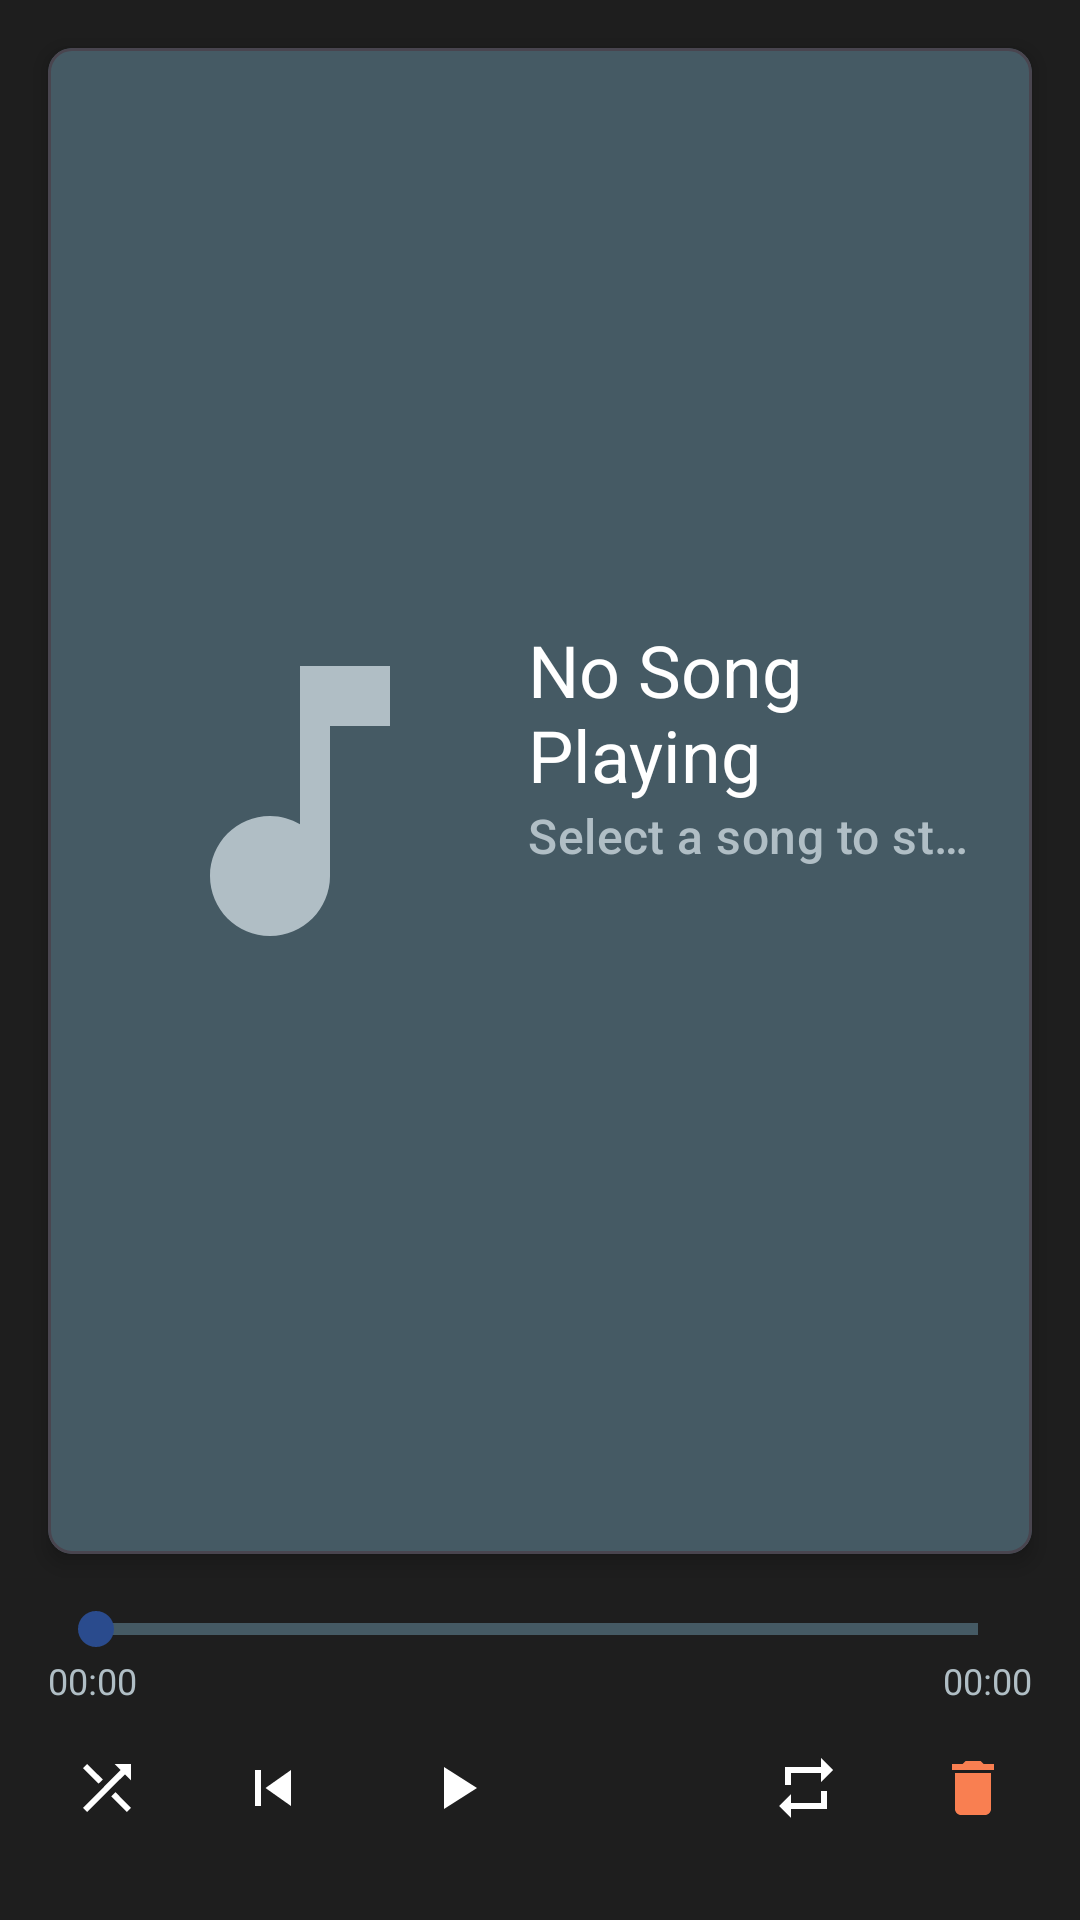

Named icons in this screenshot (1080 x 1920) and their centers, (x,y):
Album Art: (300,801)
Play or Pause Song: (460,1788)
Previous Song: (273,1788)
Repeat Mode: (806,1788)
